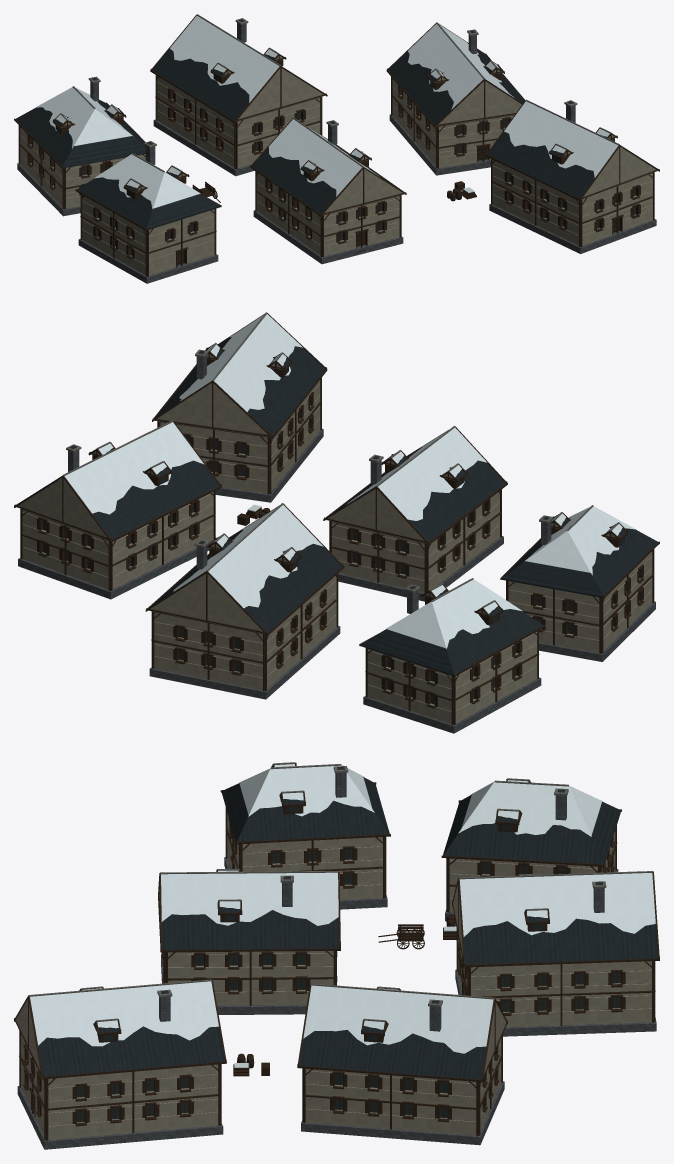
The model's file is guest_houses.glb.
The picture shows the model from 3 angles, top to bottom: view 1: azimuth 30°, elevation 25°; view 2: azimuth 150°, elevation 25°; view 3: azimuth 270°, elevation 25°; orthographic projection. The views are drawn at different scales.
Parts seen in each view (by area): view 1: ENV_R5_Plaster, ENV_R5_Snow, ENV_R5_Timber, ENV_R5_Slate, ENV_R5_Stone, ENV_R5_Trim, ENV_R5_Dark; view 2: ENV_R5_Plaster, ENV_R5_Snow, ENV_R5_Timber, ENV_R5_Slate, ENV_R5_Stone, ENV_R5_Trim, ENV_R5_Dark; view 3: ENV_R5_Snow, ENV_R5_Plaster, ENV_R5_Slate, ENV_R5_Timber, ENV_R5_Stone, ENV_R5_Dark, ENV_R5_Trim.
Boxes of the visible parts, x1,y1,x2,y2 form: ENV_R5_Plaster: (20, 56, 656, 275); ENV_R5_Snow: (35, 16, 618, 209); ENV_R5_Timber: (14, 15, 659, 276); ENV_R5_Slate: (15, 49, 656, 230); ENV_R5_Stone: (17, 22, 656, 283); ENV_R5_Trim: (60, 14, 619, 184); ENV_R5_Dark: (56, 19, 635, 254); ENV_R5_Plaster: (17, 354, 652, 723); ENV_R5_Snow: (64, 314, 636, 648); ENV_R5_Timber: (14, 313, 659, 725); ENV_R5_Slate: (15, 337, 657, 676); ENV_R5_Stone: (18, 355, 655, 733); ENV_R5_Trim: (62, 312, 619, 607); ENV_R5_Dark: (43, 350, 623, 703); ENV_R5_Snow: (30, 764, 655, 1067); ENV_R5_Plaster: (16, 813, 651, 1139); ENV_R5_Slate: (38, 777, 657, 1079); ENV_R5_Timber: (14, 763, 659, 1140); ENV_R5_Stone: (17, 772, 656, 1149); ENV_R5_Dark: (77, 766, 620, 1121); ENV_R5_Trim: (28, 762, 653, 1021).
Bounding box in the file's own units: 86.71 × 18.43 × 80.09.
8 materials, 7 textured.
